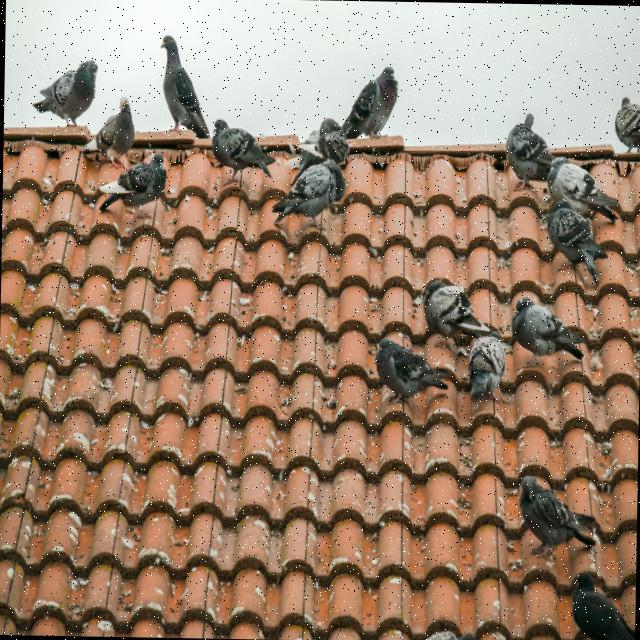bird: (270, 118, 350, 240), (516, 475, 598, 557), (372, 336, 451, 410), (509, 294, 590, 366), (158, 34, 212, 140), (420, 276, 494, 352), (545, 200, 610, 286), (544, 154, 622, 222), (95, 150, 170, 220), (31, 56, 99, 132), (338, 64, 399, 142), (209, 118, 278, 186), (569, 570, 635, 640), (503, 111, 556, 196), (83, 95, 136, 172), (466, 332, 506, 404), (613, 95, 640, 154)
